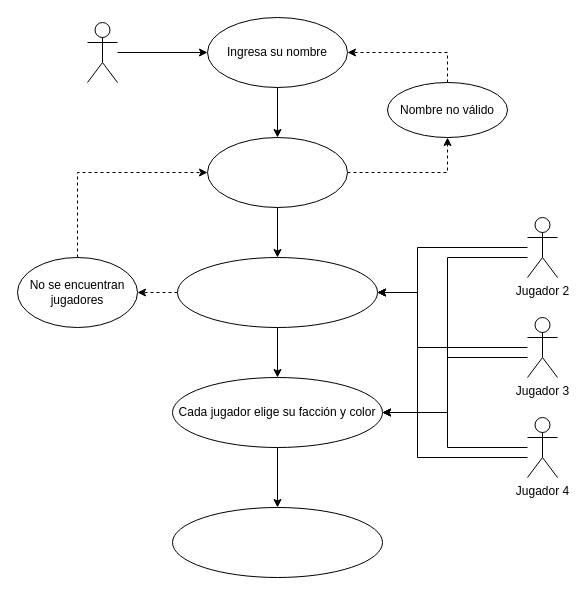
Some shapes in this 586 by 595 pixel diagram are drawn without their labels. Here are the shapes that lost their labels. From the top down, the centre of each, then its label:
At pixel 102 52: "Usuario".
At pixel 277 172: "Selecciona el modo de juego".
At pixel 277 292: "Los jugadores ingresan a la partida".
At pixel 277 542: "Transcurre la partida".
